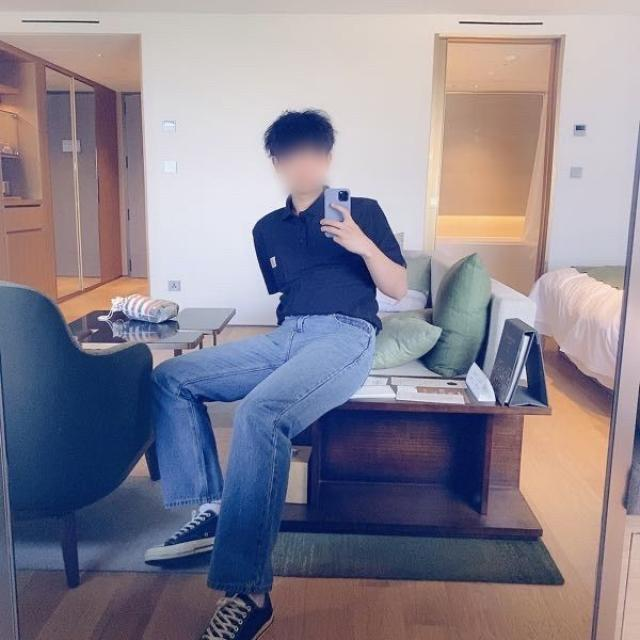denimpants: (150, 316, 378, 595)
shortsleeve: (252, 186, 408, 335)
